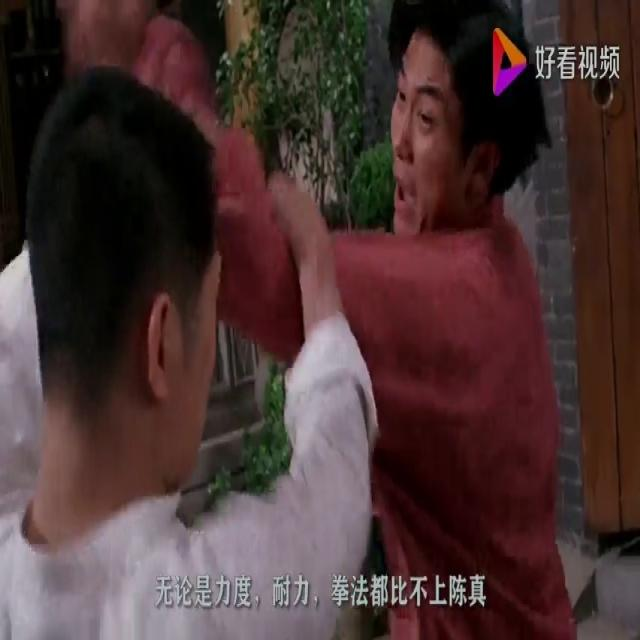fight: (0, 0, 615, 639)
